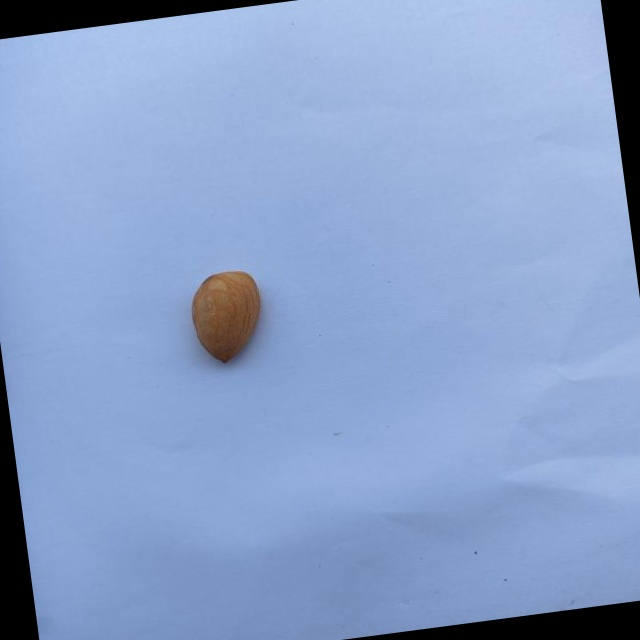grade2: (183, 264, 275, 370)
